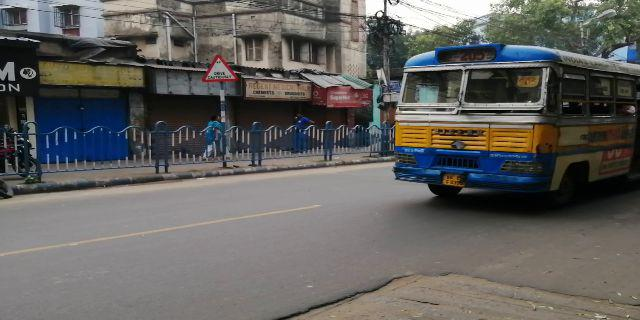Bus: (397, 46, 627, 200)
